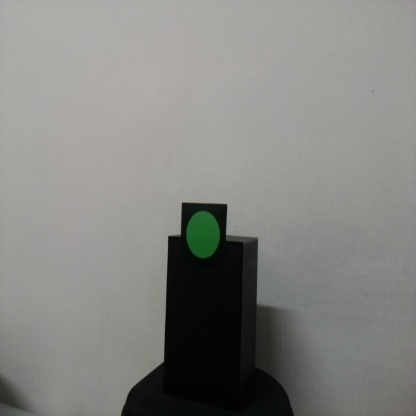id_5: (182, 204, 227, 269)
